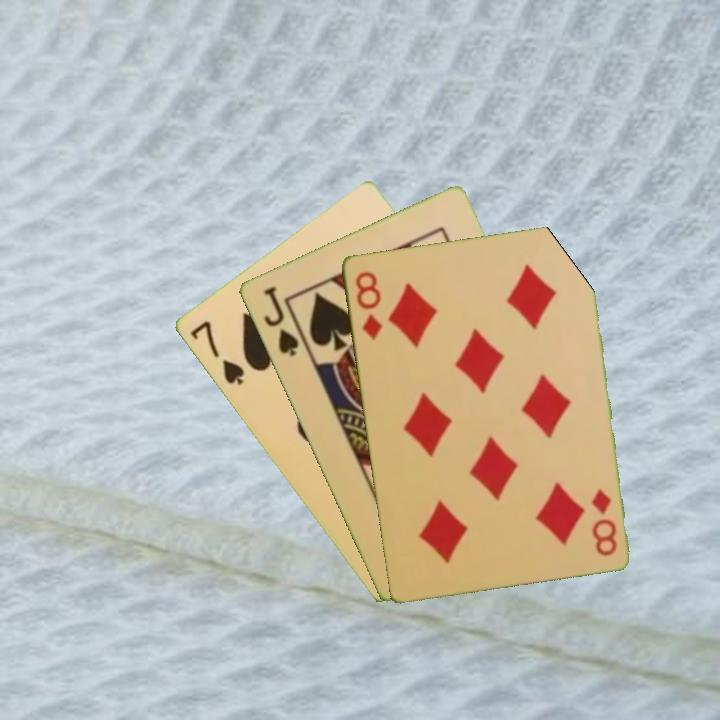7s: (186, 317, 247, 388)
8d: (351, 267, 385, 343), (588, 485, 620, 559)
Js: (259, 282, 302, 359)
